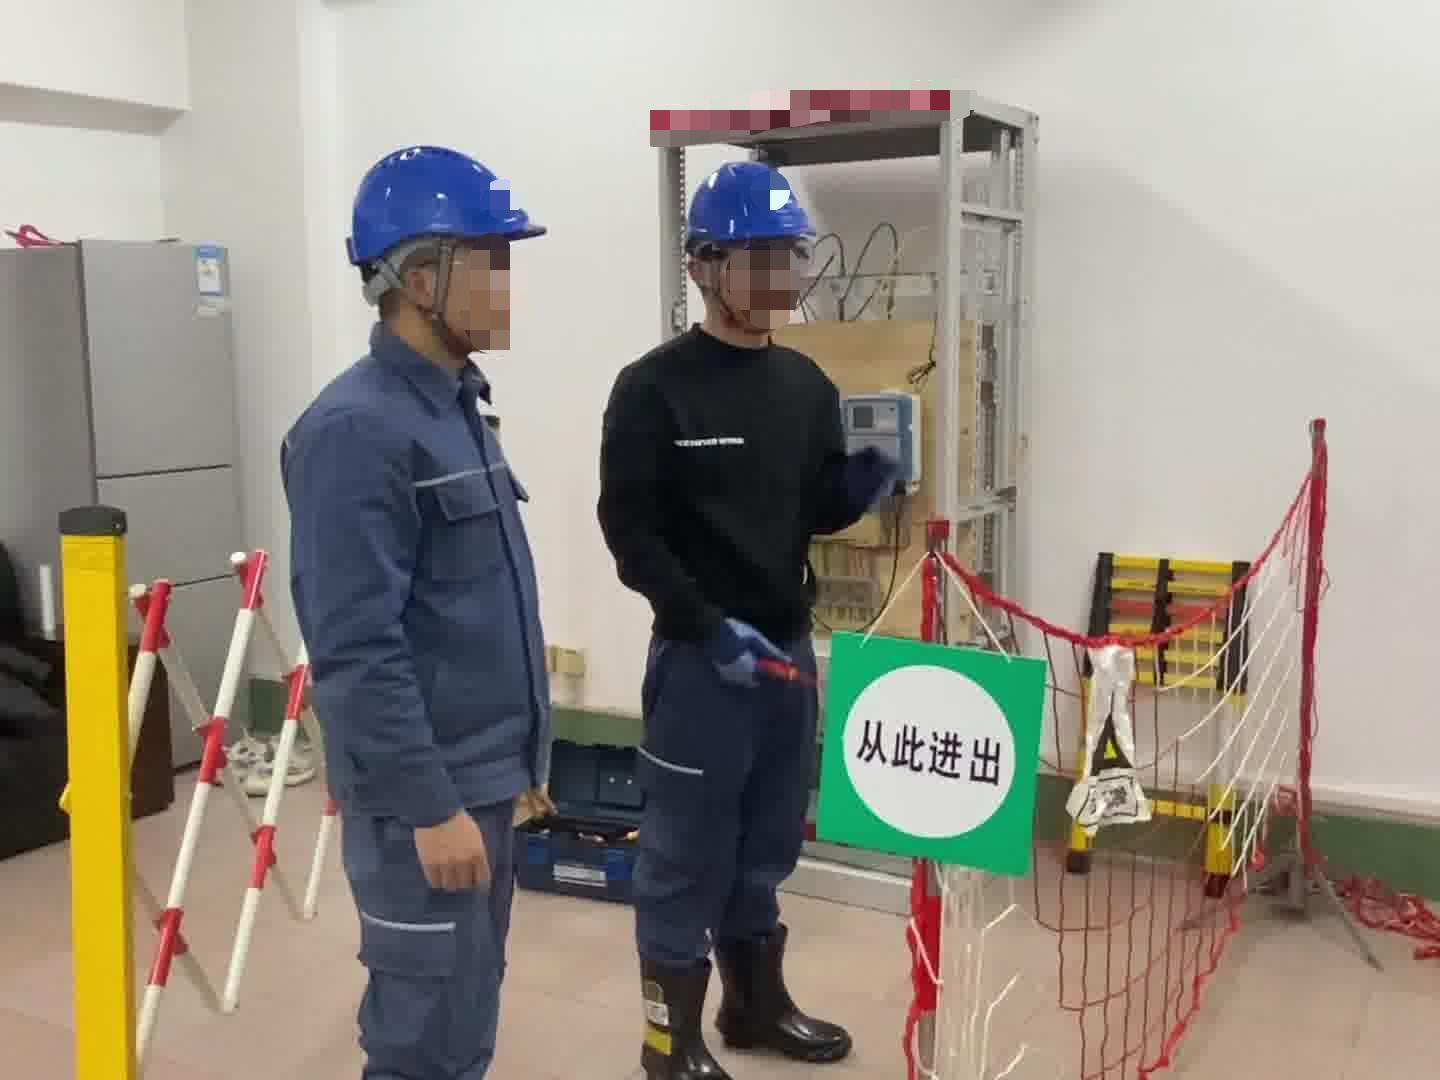halt: (344, 145, 549, 365), (681, 162, 827, 347)
inear: (380, 243, 469, 351), (688, 250, 734, 307)
